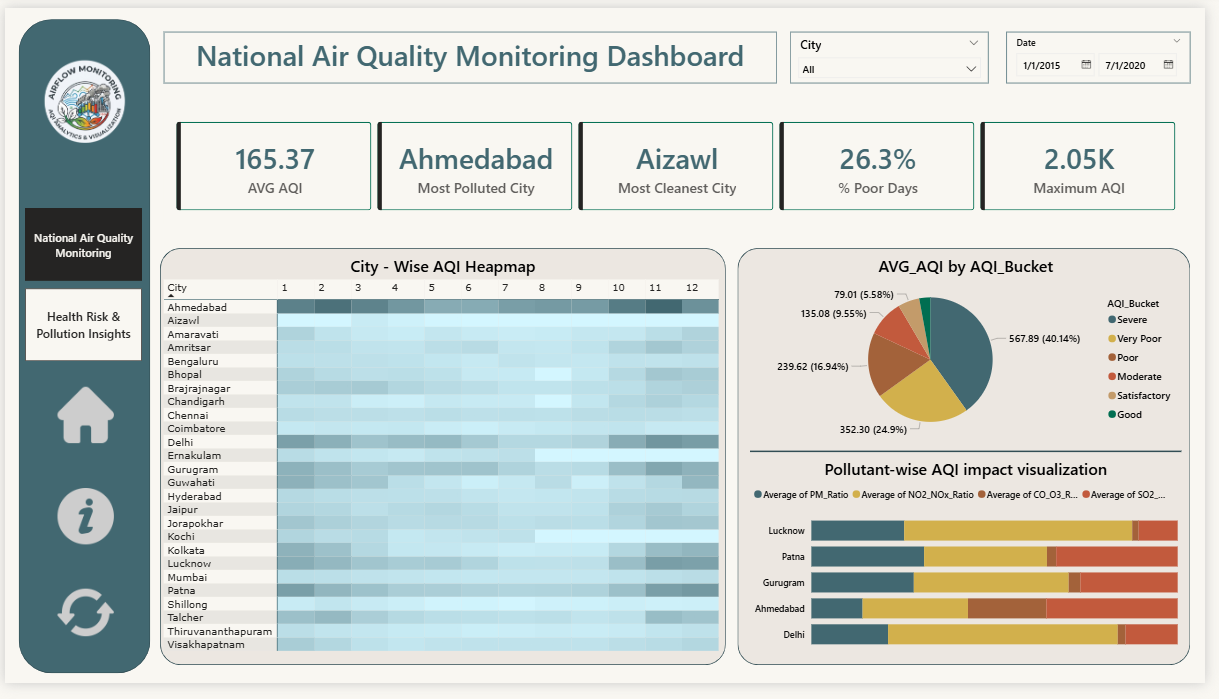

The dashboard page shown, as its layout file describes it:
{"tool":"powerbi","page":{"name":"National Air Quality Monitoring","canvas":[1600,900],"ordinal":0},"visuals":[{"type":"shape","box":[17.5,15.8,175.4,871.9],"z":0},{"type":"textbox","box":[212.3,31.6,817.5,68.4],"z":1000},{"type":"cardVisual","fields":{"Data":["Measure.AVG_AQI","Measure.Most Polluted City","Measure.Most Cleanest City","Measure.% Poor Days","Measure.Maximum AQI"]},"box":[212.3,135.1,1368.4,152.6],"z":2000},{"type":"shape","box":[207,319.3,754.4,556.1],"z":3000},{"type":"pivotTable","title":"City - Wise AQI Heapmap","fields":{"Rows":["Data.City"],"Columns":["Data.Month"],"Values":["Measure.AVG_AQI"]},"box":[207,328.1,754.4,547.4],"z":4000},{"type":"slicer","fields":{"Values":["Data.City"]},"box":[1047.4,31.6,264.9,68.4],"z":5000},{"type":"slicer","fields":{"Values":["Calender.Date"]},"box":[1335.1,31.6,245.6,68.4],"z":6000},{"type":"shape","box":[977.2,319.3,603.5,556.1],"z":7000},{"type":"pieChart","fields":{"Category":["Data.AQI_Bucket"],"Y":["Measure.AVG_AQI"]},"box":[993,328.1,575.4,252.6],"z":8000},{"type":"hundredPercentStackedBarChart","title":"Pollutant-wise AQI impact visualization","fields":{"Y":["Avg(Data.PM_Ratio)","Avg(Data.NO2_NOx_Ratio)","Avg(Data.CO_O3_Ratio)","Avg(Data.SO2_NO2_Ratio)"],"Category":["Data.City"]},"box":[993,600,575.4,268.4],"z":9000},{"type":"shape","box":[993,584.2,575.4,12.3],"z":10000},{"type":"pageNavigator","box":[26.7,278.5,156.7,205],"z":11000},{"type":"image","box":[0,15,211.7,218.3],"z":12000},{"type":"image","box":[69.3,528.7,75,75],"z":13000},{"type":"image","box":[69.3,769,75,75],"z":14000},{"type":"image","box":[69.3,648.8,75,75],"z":15000}]}

Visuals, with their boxes on the page's 1600x900 design canvas (x1, y1, x2, y2). These are canvas units, not pixel positions in the 1219x699 screenshot, which may show the page scaled, cropped or inside an application window:
shape: box=[18, 16, 193, 888]
textbox: box=[212, 32, 1030, 100]
cardVisual - Measure.AVG_AQI x Measure.Most Polluted City: box=[212, 135, 1581, 288]
shape: box=[207, 319, 961, 875]
"City - Wise AQI Heapmap" pivotTable: box=[207, 328, 961, 876]
slicer - Data.City: box=[1047, 32, 1312, 100]
slicer - Calender.Date: box=[1335, 32, 1581, 100]
shape: box=[977, 319, 1581, 875]
pieChart - Data.AQI_Bucket x Measure.AVG_AQI: box=[993, 328, 1568, 581]
"Pollutant-wise AQI impact visualization" hundredPercentStackedBarChart: box=[993, 600, 1568, 868]
shape: box=[993, 584, 1568, 596]
pageNavigator: box=[27, 278, 183, 484]
image: box=[0, 15, 212, 233]
image: box=[69, 529, 144, 604]
image: box=[69, 769, 144, 844]
image: box=[69, 649, 144, 724]
